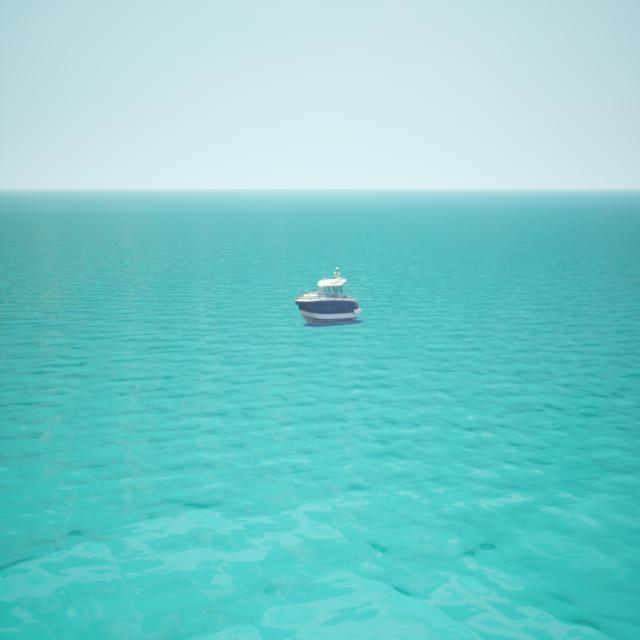ship: (294, 265, 362, 324)
